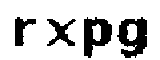g: (117, 15, 151, 60)
p: (80, 16, 112, 60)
r: (6, 15, 37, 52)
x: (43, 17, 77, 50)
